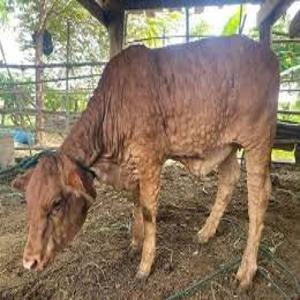lumpy skin diesease: (10, 0, 299, 292)
